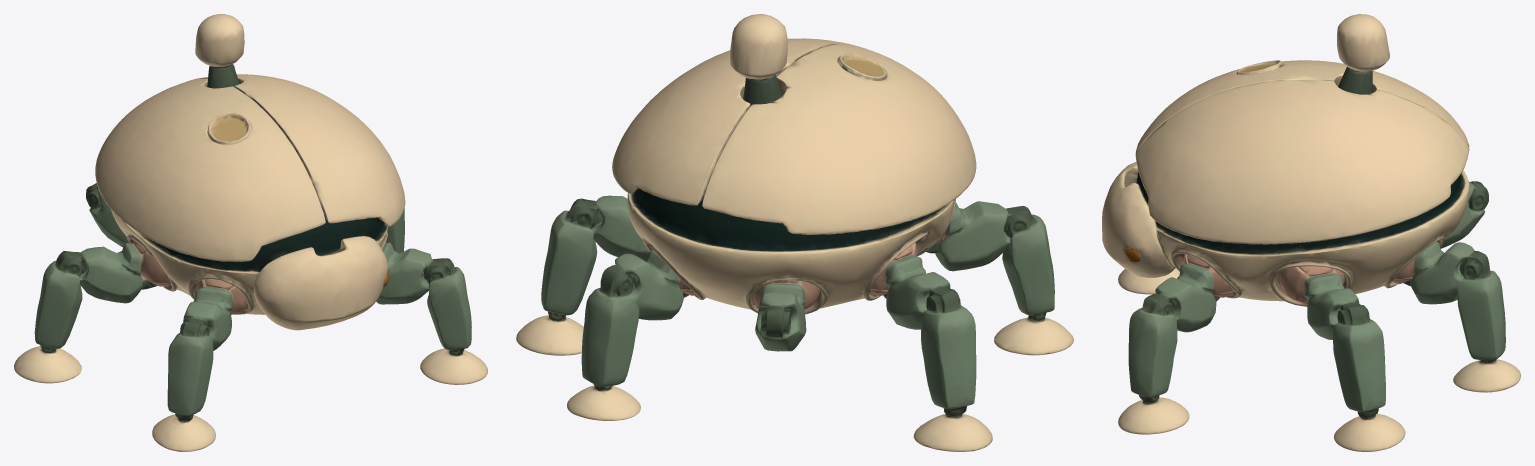
3 views of the same model, side by side, from view 1: azimuth 30°, elevation 25°; view 2: azimuth 150°, elevation 25°; view 3: azimuth 270°, elevation 25° (orthographic). The views are drawn at different scales.
Visible parts, largest first — view 1: tripo_node_c7b50a5d-154d-4216-abc4-0861094e2b42; view 2: tripo_node_c7b50a5d-154d-4216-abc4-0861094e2b42; view 3: tripo_node_c7b50a5d-154d-4216-abc4-0861094e2b42.
Part boxes in pixels (<box>): tripo_node_c7b50a5d-154d-4216-abc4-0861094e2b42: <box>14,14,487,451</box>; tripo_node_c7b50a5d-154d-4216-abc4-0861094e2b42: <box>516,14,1073,451</box>; tripo_node_c7b50a5d-154d-4216-abc4-0861094e2b42: <box>1102,14,1520,451</box>.
Bounding box in the file's own units: 1 × 0.7618 × 0.8619.
1 material, 1 textured.
